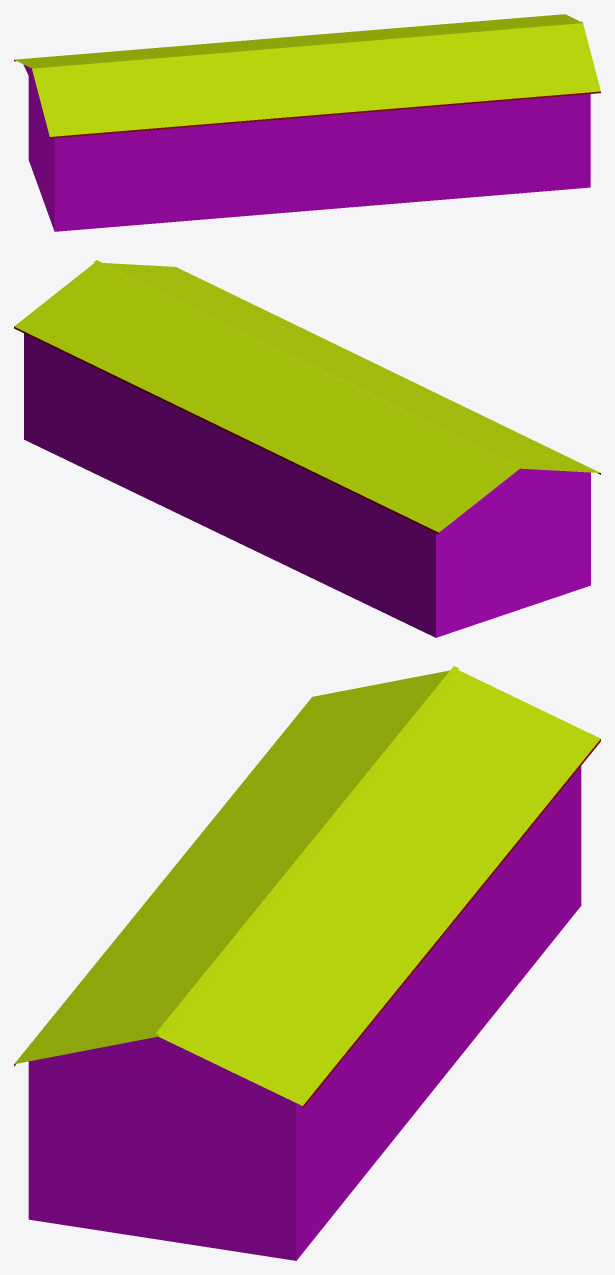
The model's file is bgj_98.glb.
3 renders of one model, top to bottom at view 1: azimuth 30°, elevation 25°; view 2: azimuth 150°, elevation 25°; view 3: azimuth 270°, elevation 25°, orthographic. The views are drawn at different scales.
Parts seen in each view (by area): view 1: bgj_98; view 2: bgj_98; view 3: bgj_98.
Boxes of the visible parts, x1,y1,x2,y2 form: bgj_98: (14,14,600,231); bgj_98: (14,260,600,637); bgj_98: (14,666,600,1260).
Size of the model in its own units: 38.68 by 9.32 by 23.44.
